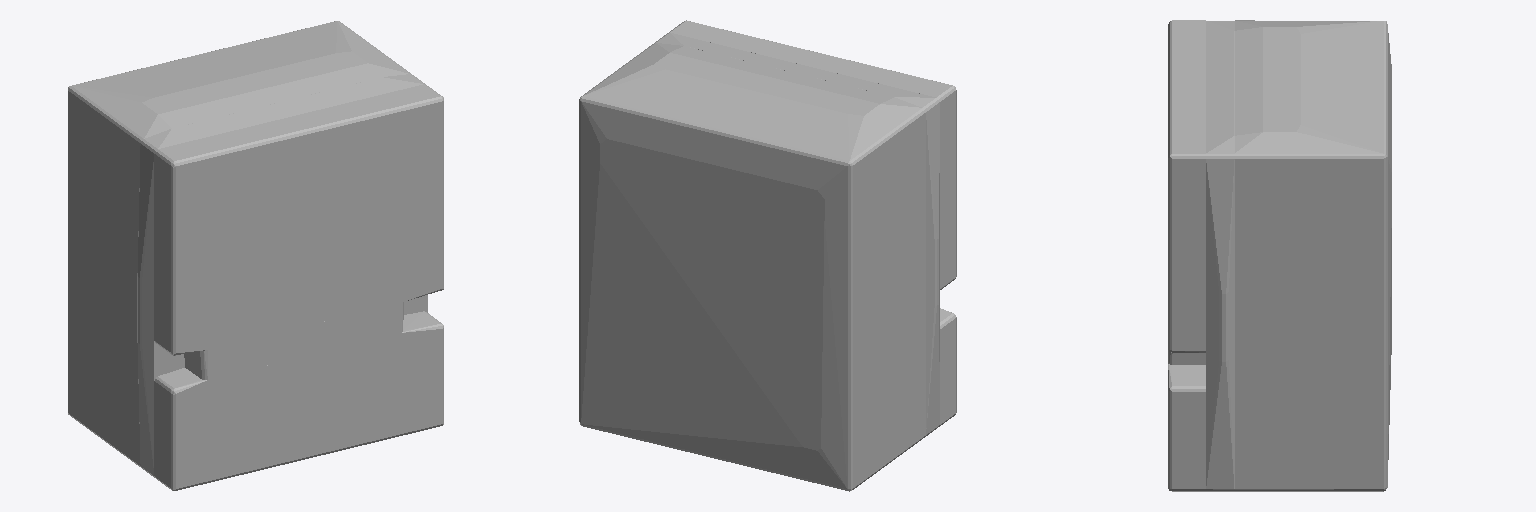
The robot description file, URDF, robot "root":
<robot name="root">
  <link name="link_coacd_convex_piece_0">
    <inertial>
      <origin xyz="0 0 0" rpy="0 0 0"/>
      <inertia ixx="1.61E-01" ixy="1.59E-04" ixz="2.12E-04" iyy="1.27E-01" iyz="-8.12E-04" izz="2.22E-01"/>
    </inertial>
    <visual>
      <origin xyz="0 0 0" rpy="0 0 0"/>
      <geometry>
        <mesh filename="coacd_convex_piece_0.obj" scale="1.0000E+00 1.0000E+00 1.0000E+00"/>
      </geometry>
      <material name="">
        <color rgba="7.50E-01 7.50E-01 7.50E-01 1"/>
      </material>
    </visual>
    <collision>
      <origin xyz="0 0 0" rpy="0 0 0"/>
      <geometry>
        <mesh filename="coacd_convex_piece_0.obj" scale="1.0000E+00 1.0000E+00 1.0000E+00"/>
      </geometry>
    </collision>
  </link>
  <link name="link_coacd_convex_piece_1">
    <inertial>
      <origin xyz="0 0 0" rpy="0 0 0"/>
      <inertia ixx="3.05E-02" ixy="-5.62E-07" ixz="4.93E-08" iyy="2.55E-02" iyz="3.92E-04" izz="4.14E-02"/>
    </inertial>
    <visual>
      <origin xyz="0 0 0" rpy="0 0 0"/>
      <geometry>
        <mesh filename="coacd_convex_piece_1.obj" scale="1.0000E+00 1.0000E+00 1.0000E+00"/>
      </geometry>
      <material name="">
        <color rgba="7.50E-01 7.50E-01 7.50E-01 1"/>
      </material>
    </visual>
    <collision>
      <origin xyz="0 0 0" rpy="0 0 0"/>
      <geometry>
        <mesh filename="coacd_convex_piece_1.obj" scale="1.0000E+00 1.0000E+00 1.0000E+00"/>
      </geometry>
    </collision>
  </link>
  <joint name="link_coacd_convex_piece_1_joint" type="fixed">
    <origin xyz="0 0 0" rpy="0 0 0"/>
    <parent link="link_coacd_convex_piece_0"/>
    <child link="link_coacd_convex_piece_1"/>
  </joint>
  <link name="link_coacd_convex_piece_2">
    <inertial>
      <origin xyz="0 0 0" rpy="0 0 0"/>
      <inertia ixx="2.75E-02" ixy="1.01E-08" ixz="-7.16E-07" iyy="2.67E-02" iyz="-1.03E-02" izz="2.74E-02"/>
    </inertial>
    <visual>
      <origin xyz="0 0 0" rpy="0 0 0"/>
      <geometry>
        <mesh filename="coacd_convex_piece_2.obj" scale="1.0000E+00 1.0000E+00 1.0000E+00"/>
      </geometry>
      <material name="">
        <color rgba="7.50E-01 7.50E-01 7.50E-01 1"/>
      </material>
    </visual>
    <collision>
      <origin xyz="0 0 0" rpy="0 0 0"/>
      <geometry>
        <mesh filename="coacd_convex_piece_2.obj" scale="1.0000E+00 1.0000E+00 1.0000E+00"/>
      </geometry>
    </collision>
  </link>
  <joint name="link_coacd_convex_piece_2_joint" type="fixed">
    <origin xyz="0 0 0" rpy="0 0 0"/>
    <parent link="link_coacd_convex_piece_1"/>
    <child link="link_coacd_convex_piece_2"/>
  </joint>
  <link name="link_coacd_convex_piece_3">
    <inertial>
      <origin xyz="0 0 0" rpy="0 0 0"/>
      <inertia ixx="2.23E-02" ixy="3.12E-06" ixz="-4.29E-06" iyy="1.43E-02" iyz="1.00E-02" izz="2.22E-02"/>
    </inertial>
    <visual>
      <origin xyz="0 0 0" rpy="0 0 0"/>
      <geometry>
        <mesh filename="coacd_convex_piece_3.obj" scale="1.0000E+00 1.0000E+00 1.0000E+00"/>
      </geometry>
      <material name="">
        <color rgba="7.50E-01 7.50E-01 7.50E-01 1"/>
      </material>
    </visual>
    <collision>
      <origin xyz="0 0 0" rpy="0 0 0"/>
      <geometry>
        <mesh filename="coacd_convex_piece_3.obj" scale="1.0000E+00 1.0000E+00 1.0000E+00"/>
      </geometry>
    </collision>
  </link>
  <joint name="link_coacd_convex_piece_3_joint" type="fixed">
    <origin xyz="0 0 0" rpy="0 0 0"/>
    <parent link="link_coacd_convex_piece_2"/>
    <child link="link_coacd_convex_piece_3"/>
  </joint>
  <link name="link_coacd_convex_piece_4">
    <inertial>
      <origin xyz="0 0 0" rpy="0 0 0"/>
      <inertia ixx="2.08E-03" ixy="6.06E-05" ixz="-1.03E-04" iyy="2.38E-03" iyz="8.95E-04" izz="1.39E-03"/>
    </inertial>
    <visual>
      <origin xyz="0 0 0" rpy="0 0 0"/>
      <geometry>
        <mesh filename="coacd_convex_piece_4.obj" scale="1.0000E+00 1.0000E+00 1.0000E+00"/>
      </geometry>
      <material name="">
        <color rgba="7.50E-01 7.50E-01 7.50E-01 1"/>
      </material>
    </visual>
    <collision>
      <origin xyz="0 0 0" rpy="0 0 0"/>
      <geometry>
        <mesh filename="coacd_convex_piece_4.obj" scale="1.0000E+00 1.0000E+00 1.0000E+00"/>
      </geometry>
    </collision>
  </link>
  <joint name="link_coacd_convex_piece_4_joint" type="fixed">
    <origin xyz="0 0 0" rpy="0 0 0"/>
    <parent link="link_coacd_convex_piece_3"/>
    <child link="link_coacd_convex_piece_4"/>
  </joint>
</robot>

--- Facts derived from the render (not from the file) ---
Views: 3 orthographic renders of the robot side by side, from view 1: azimuth 30°, elevation 25°; view 2: azimuth 150°, elevation 25°; view 3: azimuth 270°, elevation 25°.
Robot: root — 5 links, 4 joints (4 fixed); root link link_coacd_convex_piece_0; default pose: all joints at 0.
Links seen in each view (by area): view 1: link_coacd_convex_piece_2, link_coacd_convex_piece_0, link_coacd_convex_piece_3, link_coacd_convex_piece_1, link_coacd_convex_piece_4; view 2: link_coacd_convex_piece_0, link_coacd_convex_piece_2, link_coacd_convex_piece_1, link_coacd_convex_piece_3; view 3: link_coacd_convex_piece_0, link_coacd_convex_piece_1, link_coacd_convex_piece_2, link_coacd_convex_piece_3.
Boxes of the visible links, x1,y1,x2,y2 form: link_coacd_convex_piece_2: (154,84,443,355); link_coacd_convex_piece_0: (68,21,410,466); link_coacd_convex_piece_3: (154,311,443,490); link_coacd_convex_piece_1: (137,74,427,477); link_coacd_convex_piece_4: (184,302,403,379); link_coacd_convex_piece_0: (579,43,925,491); link_coacd_convex_piece_2: (669,20,956,289); link_coacd_convex_piece_1: (655,33,939,436); link_coacd_convex_piece_3: (939,308,956,426); link_coacd_convex_piece_0: (1235,20,1391,491); link_coacd_convex_piece_1: (1206,21,1234,491); link_coacd_convex_piece_2: (1168,20,1205,352); link_coacd_convex_piece_3: (1168,364,1205,491).
Size in the robot's own frame: 1.23 by 0.8074 by 1.38 metres.
Meshes: 5 distinct files referenced, 5 mesh visuals loaded (5 OBJ).
